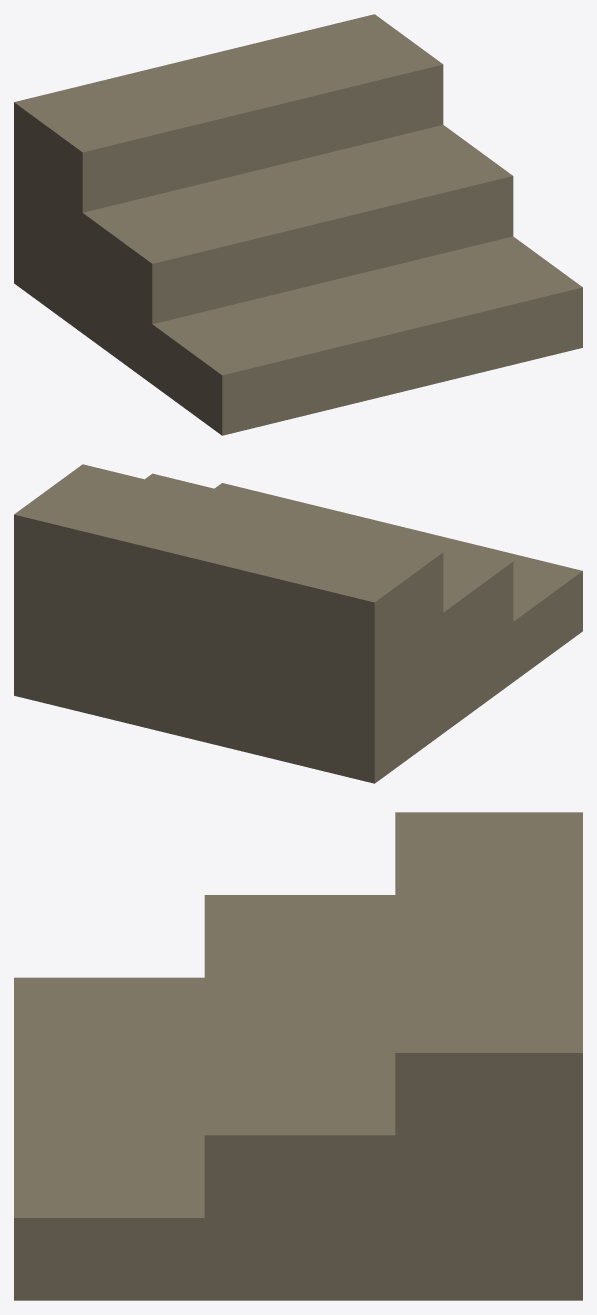
The model's file is three_steps.glb.
The picture shows the model from 3 angles, top to bottom: view 1: azimuth 30°, elevation 25°; view 2: azimuth 150°, elevation 25°; view 3: azimuth 270°, elevation 25°; orthographic projection. The views are drawn at different scales.
Visible parts, largest first — view 1: Three steps; view 2: Three steps; view 3: Three steps.
Boxes of the visible parts, x1,y1,x2,y2 form: Three steps: [14, 14, 582, 435]; Three steps: [14, 464, 582, 783]; Three steps: [14, 812, 582, 1300].
Size of the model in its own units: 1 by 0.48 by 1.
